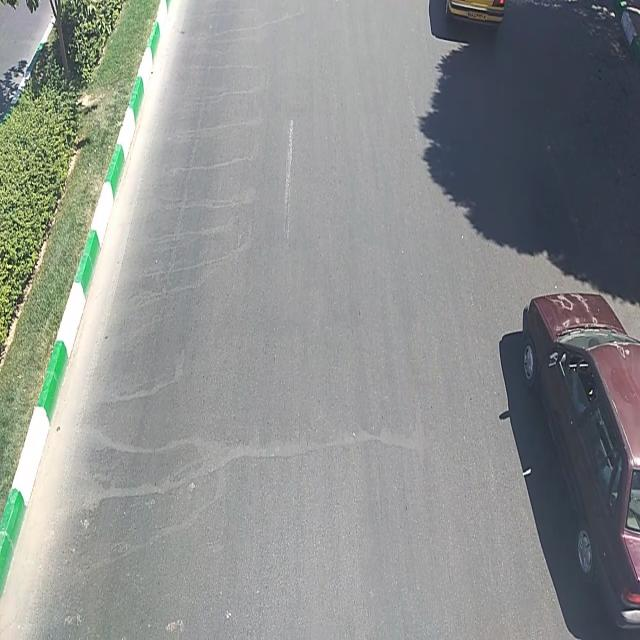car: (518, 294, 640, 630), (444, 3, 512, 32)
